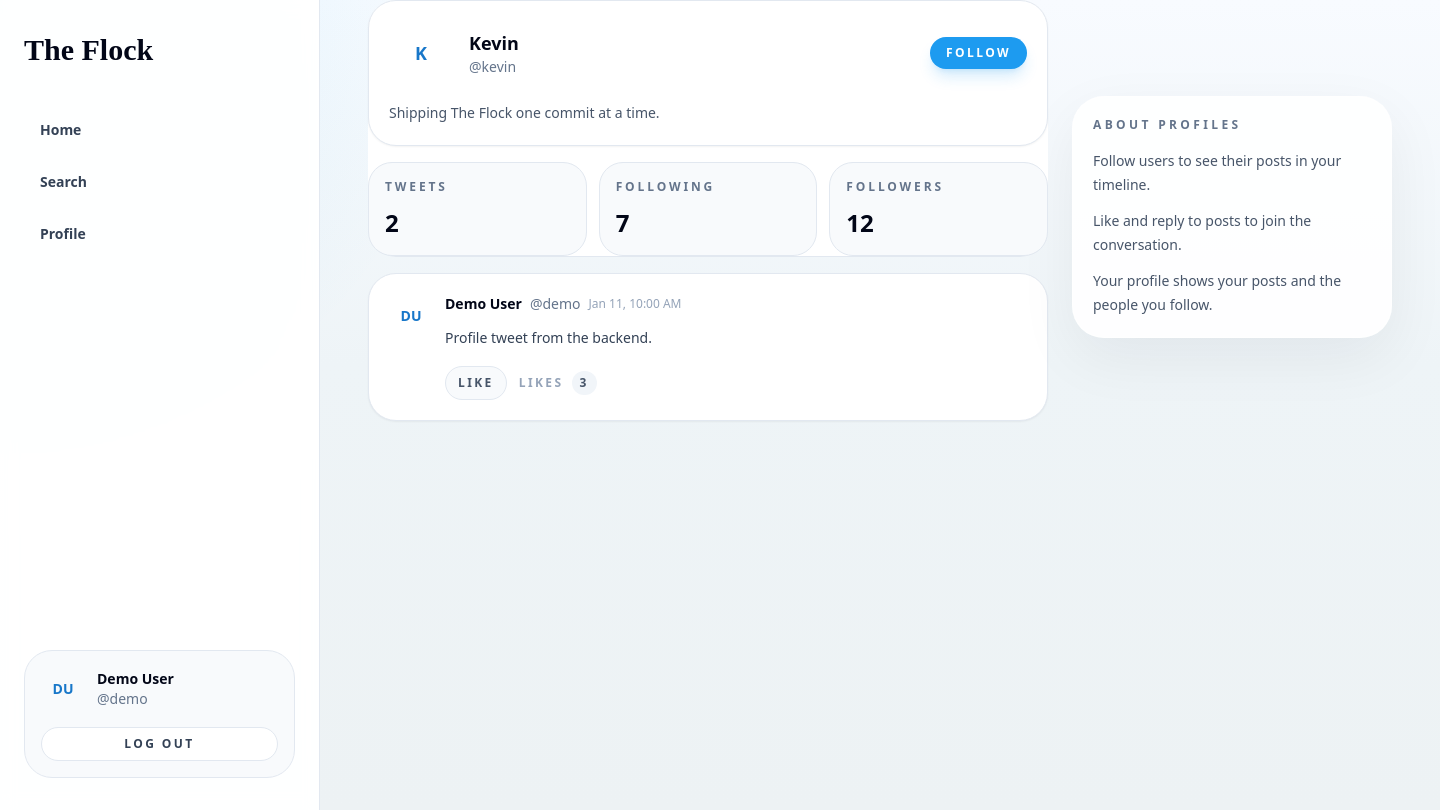
it: Profile page › shows a friendly message when follow mutation fails
This screenshot has width=1440, height=810.
What coordinates should you click on to do the following:
click the button "Follow"
I would click on:
 (979, 53)
Its box is [930, 37, 1027, 69].
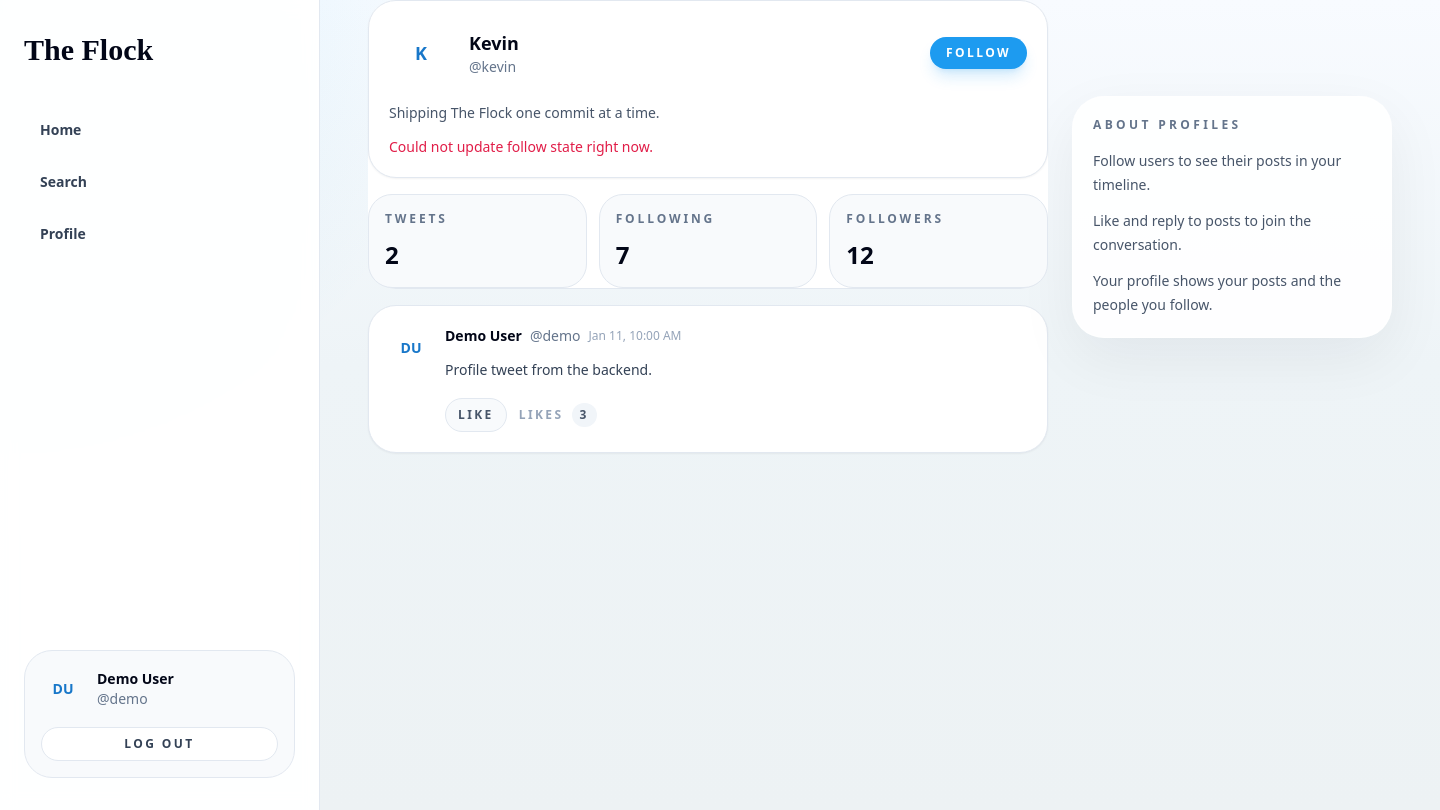
expect the text "Could not update follow state right now." is shown: met, box [389, 137, 653, 156]
